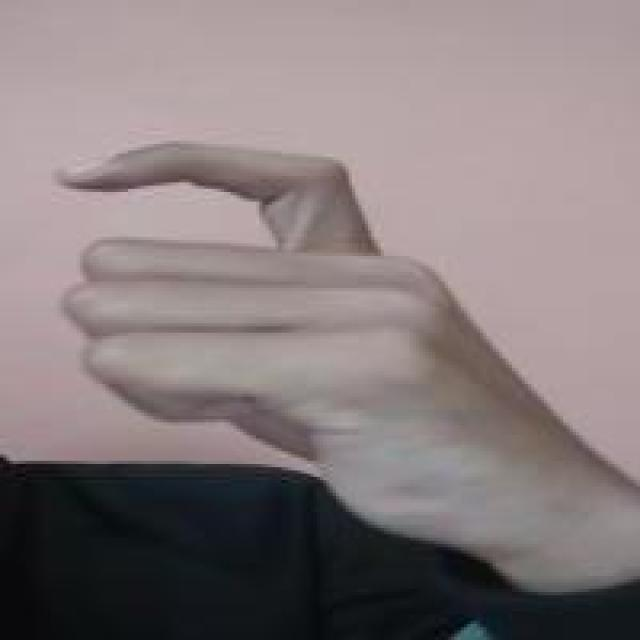X: (48, 147, 550, 512)
